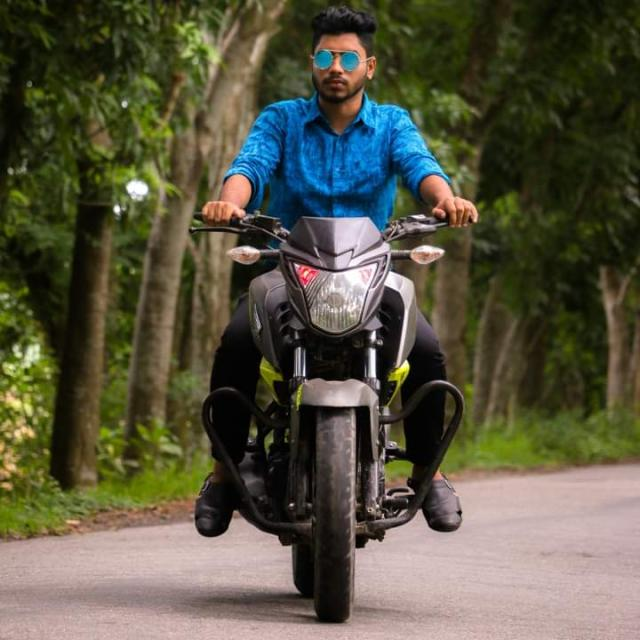Not Wearing Helmet: (254, 3, 434, 156)
